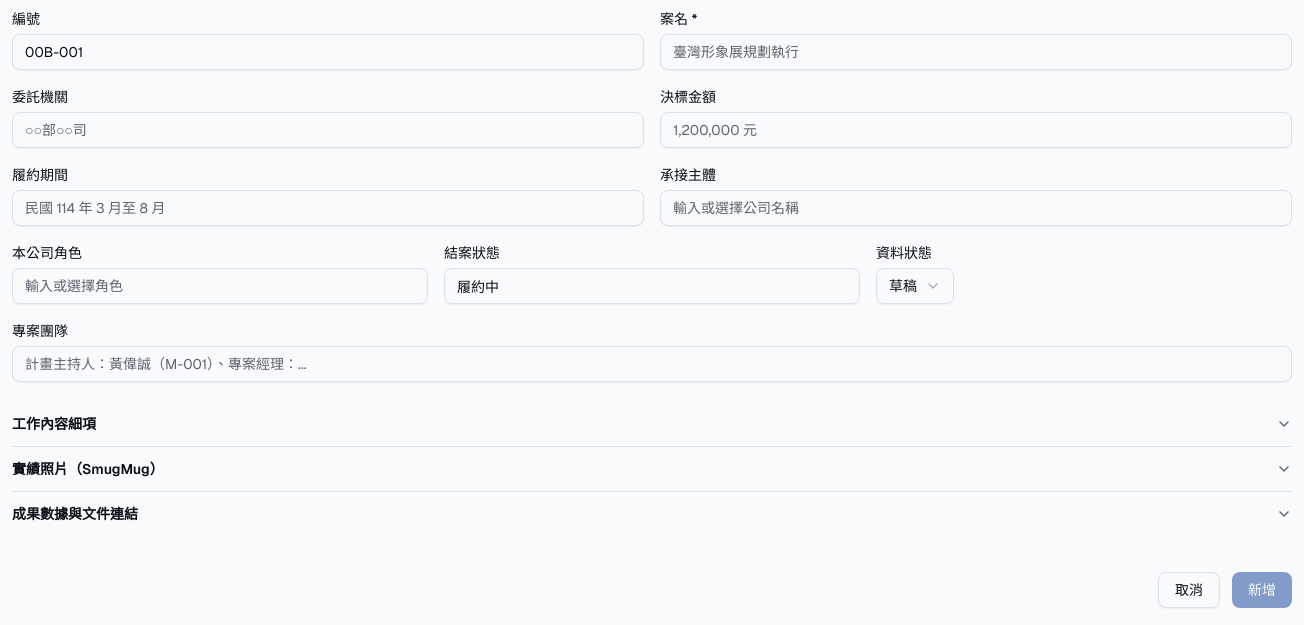
Test: EntryEditor00B — 基本渲染 › 輸入案名後儲存按鈕可用
Type "食農教育案" into the field with placeholder "臺灣形象展規劃執行" at [976, 52], box [660, 34, 1292, 70]
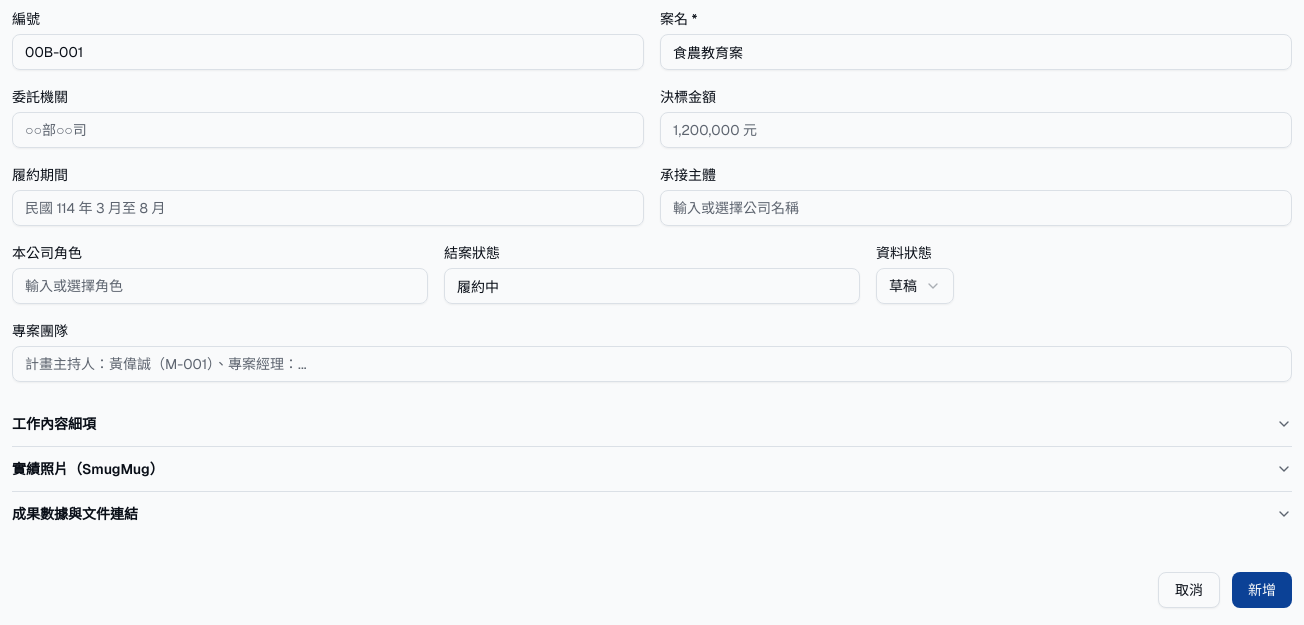
Check: the button "新增" is enabled, box [1232, 572, 1292, 608]
